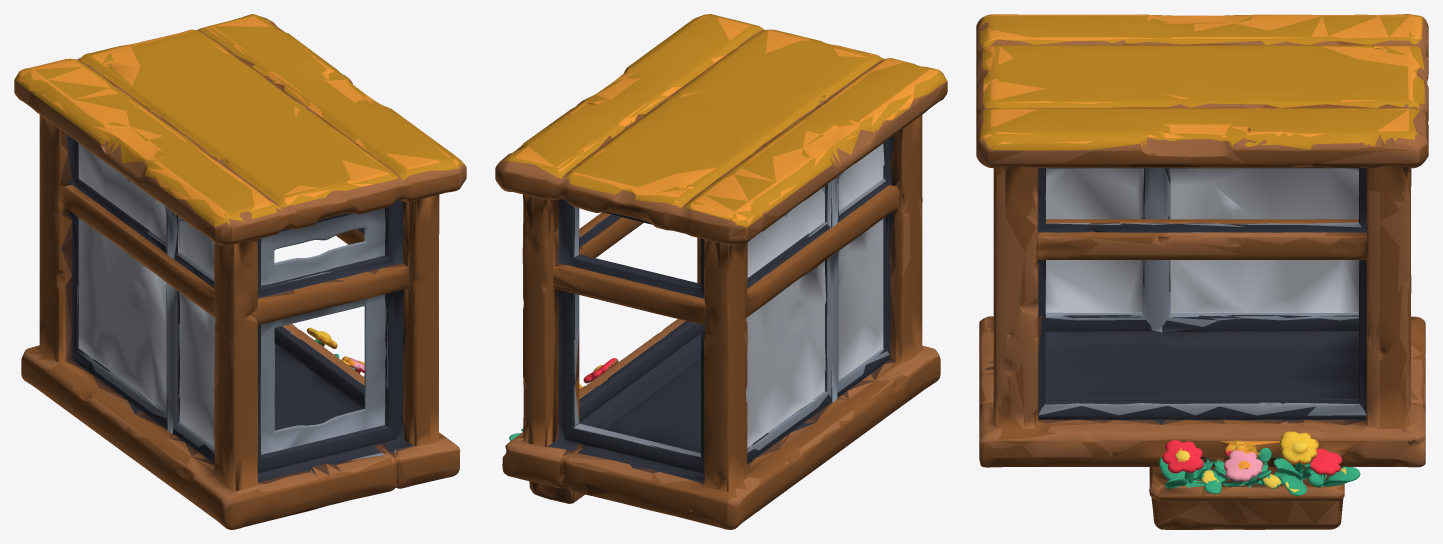
File: SM_kiosk_wood.glb
3 renders of one model, left to right at view 1: azimuth 30°, elevation 25°; view 2: azimuth 150°, elevation 25°; view 3: azimuth 270°, elevation 25°, orthographic. The views are drawn at different scales.
Parts seen in each view (by area): view 1: SM_kiosk_wood; view 2: SM_kiosk_wood; view 3: SM_kiosk_wood.
Boxes of the visible parts, bbox=[...] form: SM_kiosk_wood: bbox=[14, 14, 466, 529]; SM_kiosk_wood: bbox=[495, 14, 947, 529]; SM_kiosk_wood: bbox=[976, 14, 1428, 529].
Size of the model in its own units: 1.2 by 1.5 by 1.57.
Materials: 1 (1 with a texture image).
